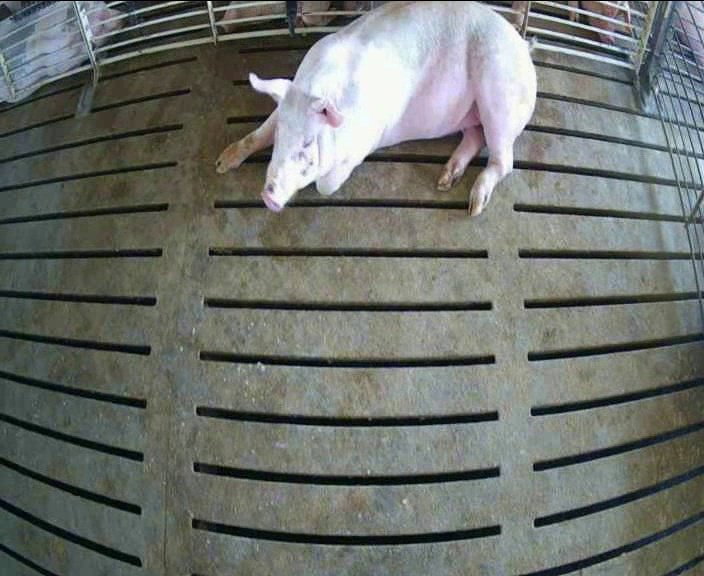pig: (216, 2, 536, 214)
